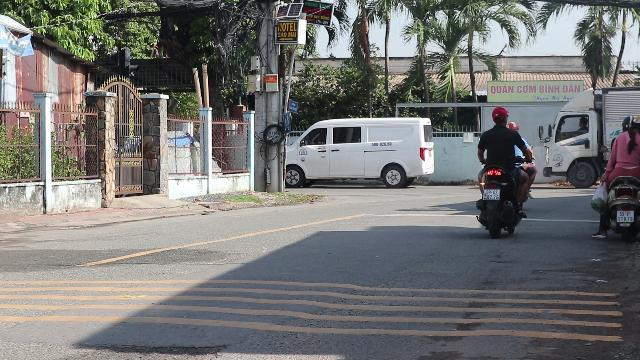helmet: (621, 116, 639, 132)
licenseplate: (618, 210, 634, 221), (484, 190, 500, 200)
motorcyclist: (472, 105, 536, 236), (590, 114, 640, 242)
nohelmet: (490, 106, 510, 126)
